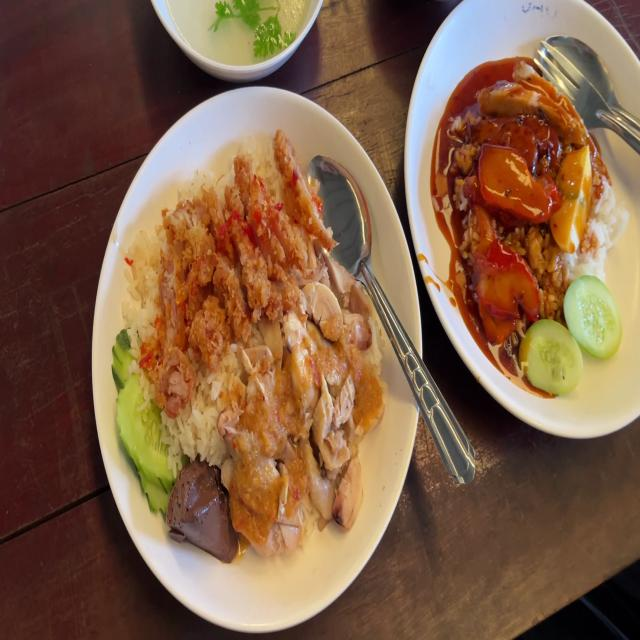chicken_rice: (228, 262, 382, 536)
noodle: (168, 452, 236, 564)
red_pork_and_crispy_pork: (553, 148, 595, 248)
stir_fried_basil: (479, 104, 564, 173)
